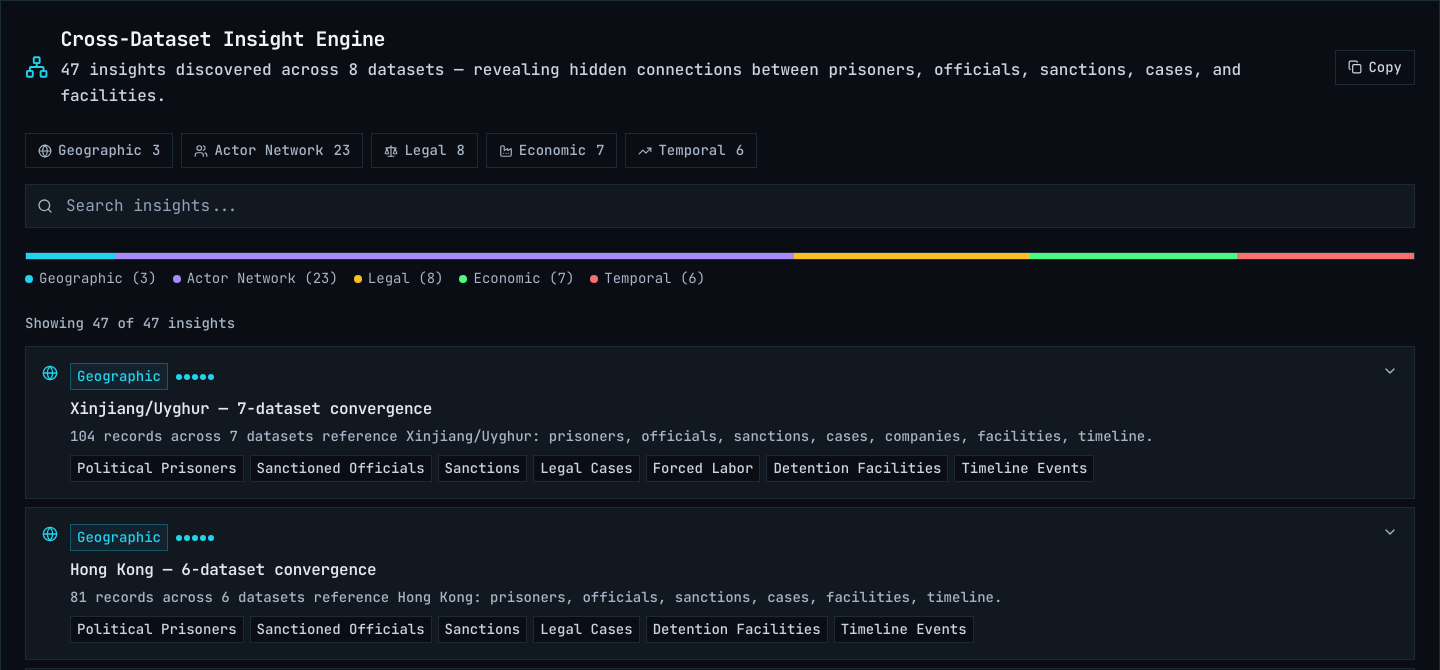
CrossDatasetInsightEngine › clicking an insight card expands it
Click the button with aria-label "Xinjiang/Uyghur — 7-dataset convergence — 104 records across". click: (720,422)
box: [26,347,1414,498]
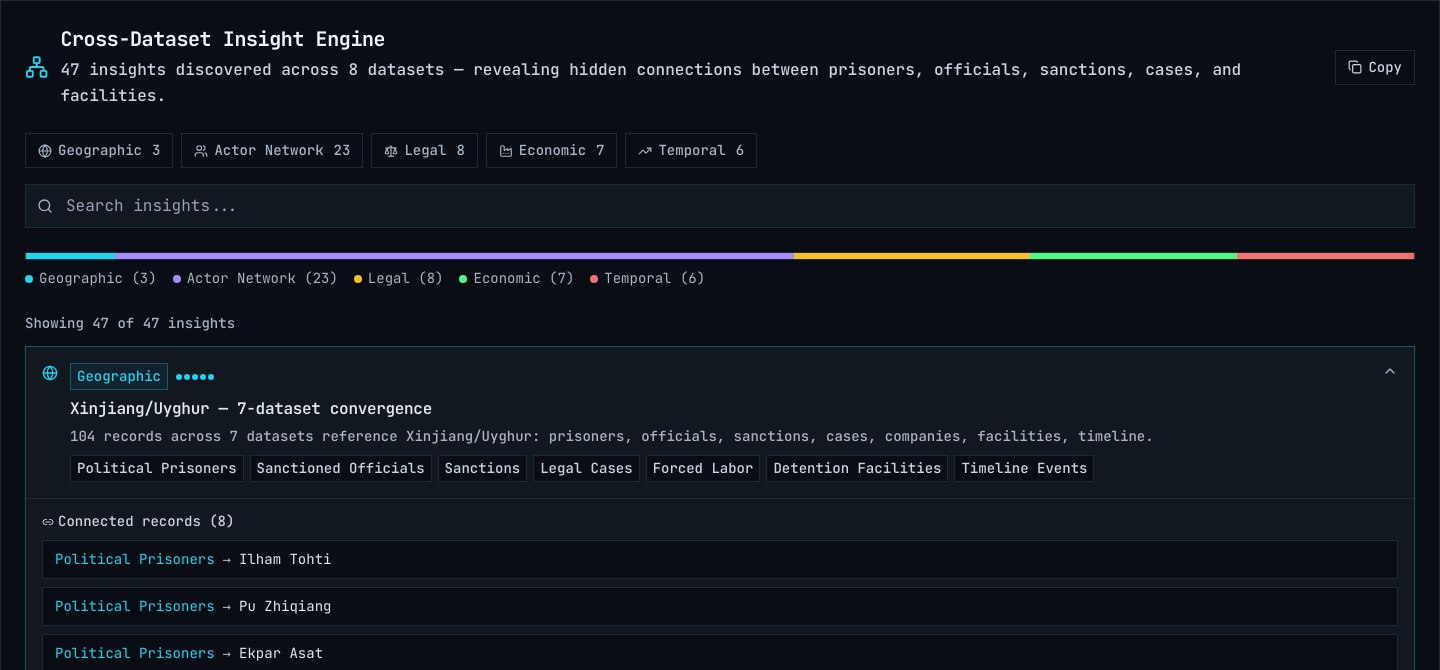
Expected: the button with aria-label "Xinjiang/Uyghur — 7-dataset convergence — 104 records across" is expanded, [26,347,1414,498]
